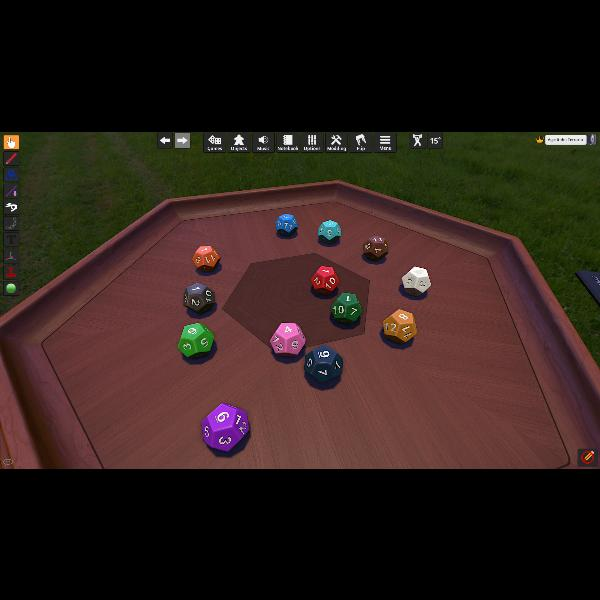d12: (202, 402, 248, 450), (178, 322, 214, 360), (306, 344, 340, 384), (383, 308, 416, 344), (270, 322, 304, 356), (330, 292, 362, 324), (184, 283, 216, 315), (402, 265, 430, 295), (311, 265, 338, 295), (193, 244, 220, 272), (362, 236, 388, 262), (318, 219, 340, 243), (276, 212, 298, 236)
